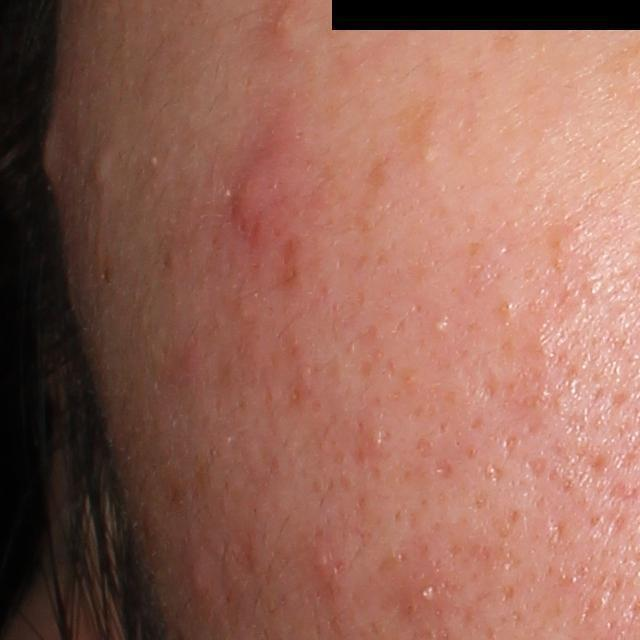comedo: (366, 426, 389, 451), (416, 147, 444, 166), (431, 318, 451, 334)
melasma: (391, 94, 440, 143)
papule: (223, 109, 309, 246), (391, 561, 452, 630), (303, 537, 352, 586), (183, 548, 217, 604)
